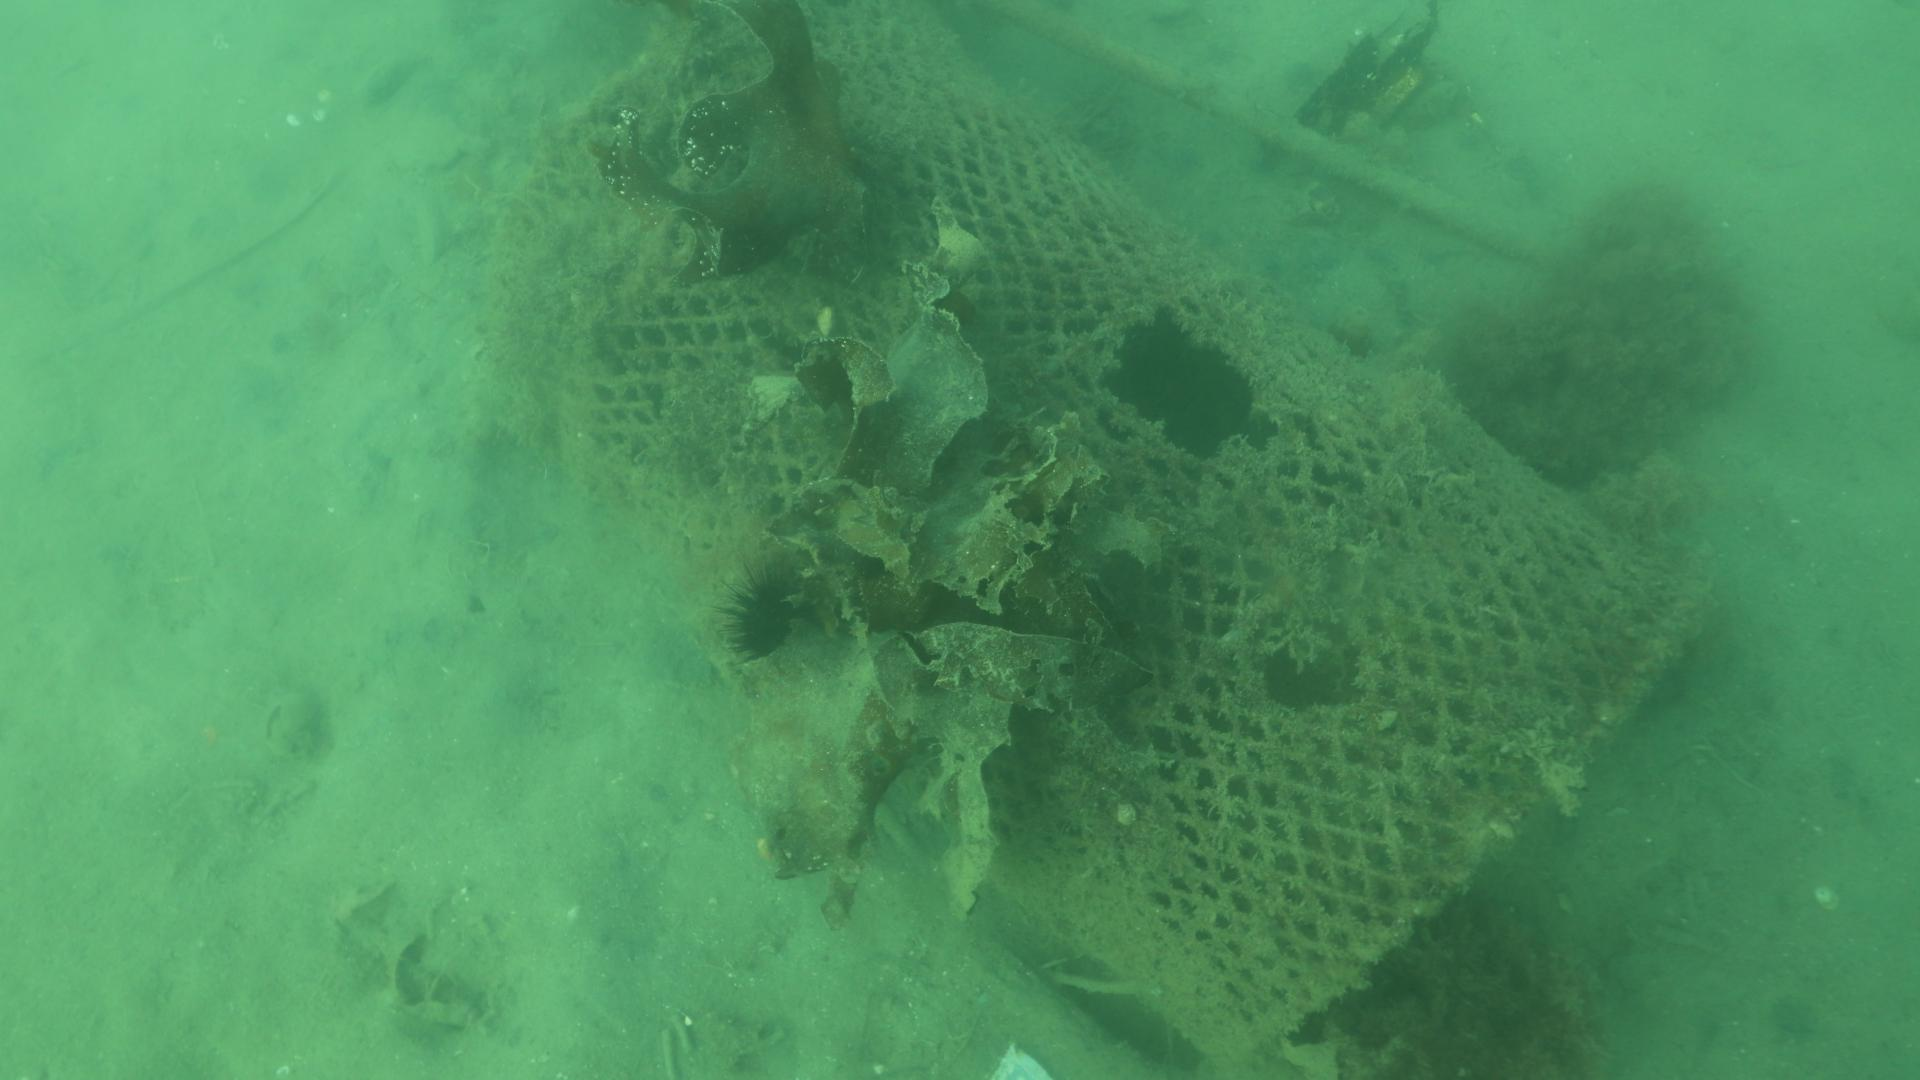spring fish trap: (469, 0, 1710, 1069)
